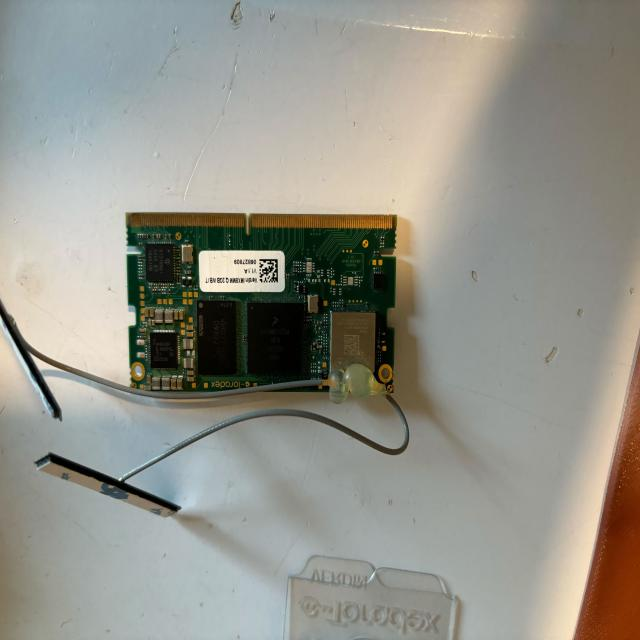som: (121, 210, 407, 405)
